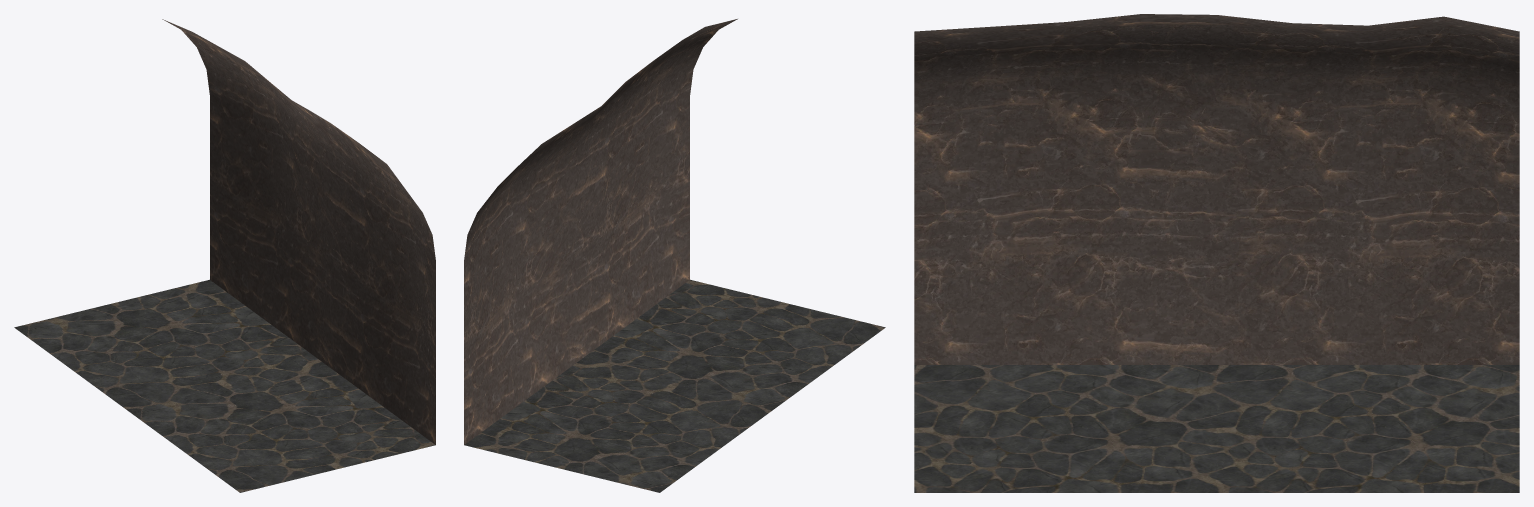
File: hall-straight.05662777.gltf
3 renders of one model, left to right at view 1: azimuth 30°, elevation 25°; view 2: azimuth 150°, elevation 25°; view 3: azimuth 270°, elevation 25°, orthographic. The views are drawn at different scales.
Visible parts, largest first — view 1: hall-straight-mesh; view 2: hall-straight-mesh; view 3: hall-straight-mesh.
Boxes of the visible parts, box(x1,y1,x2,y2) form: hall-straight-mesh: box(14, 19, 435, 492); hall-straight-mesh: box(464, 19, 885, 492); hall-straight-mesh: box(914, 14, 1519, 492).
Bounding box in the file's own units: 2.24 × 2.92 × 4.
2 materials, 2 textured.
